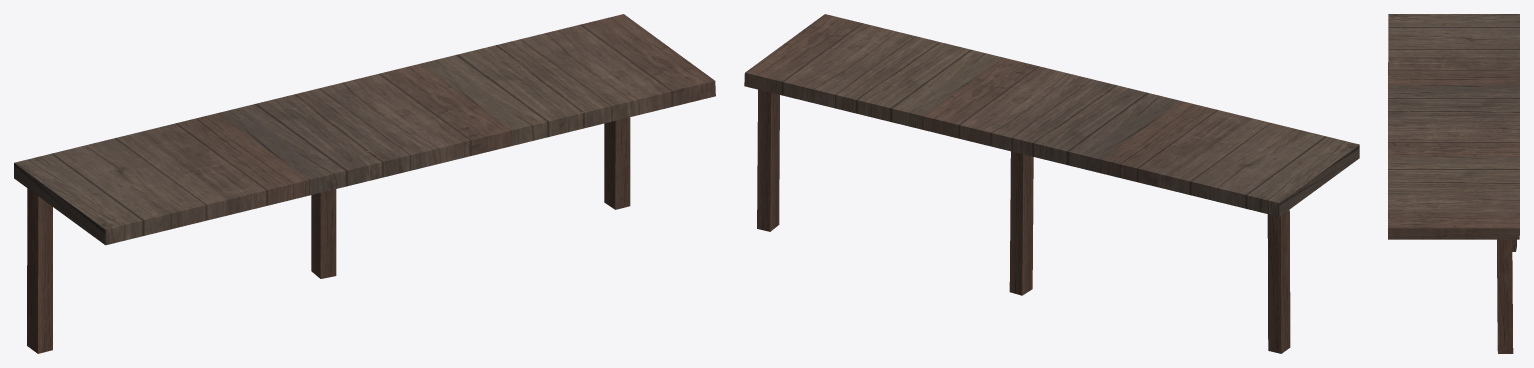
File: jovhouse_engawa01.fbx
3 renders of one model, left to right at view 1: azimuth 30°, elevation 25°; view 2: azimuth 150°, elevation 25°; view 3: azimuth 270°, elevation 25°, orthographic. The views are drawn at different scales.
Visible parts, largest first — view 1: jovhouse_engawa01; view 2: jovhouse_engawa01; view 3: jovhouse_engawa01.
Boxes of the visible parts, x1,y1,x2,y2 form: jovhouse_engawa01: (14, 14, 715, 353); jovhouse_engawa01: (744, 14, 1359, 353); jovhouse_engawa01: (1388, 14, 1519, 353).
Size of the model in its own units: 308 by 86.58 by 80.05.
